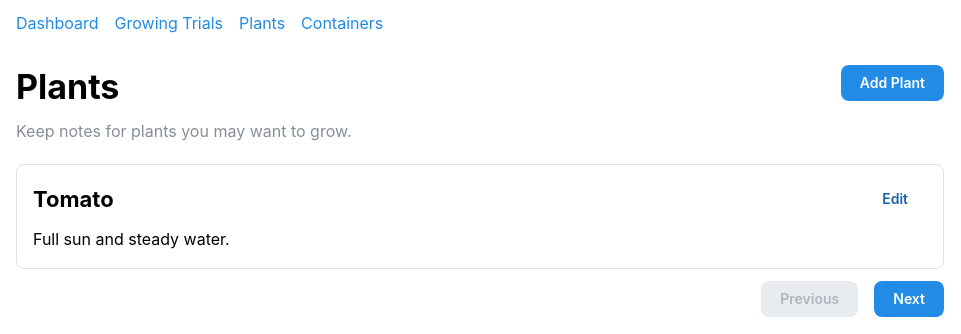
Test: PlantsPage › loads the first Plant page and navigates to the next page
This screenshot has width=961, height=334.
Check: the heading "Tomato" is shown, box [33,184,114,214]
Check: the button "Previous" is disabled, box [761,281,858,317]
Step 1. Click the button "Next" → (909, 299), box [874,281,944,317]
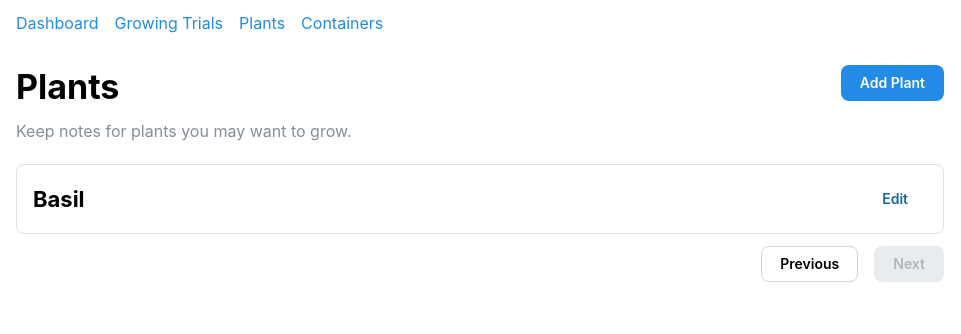
Check: the heading "Basil" is shown, box [33,184,85,214]
Check: the button "Next" is disabled, box [874,246,944,282]
Check: the button "Previous" is enabled, box [761,246,858,282]
